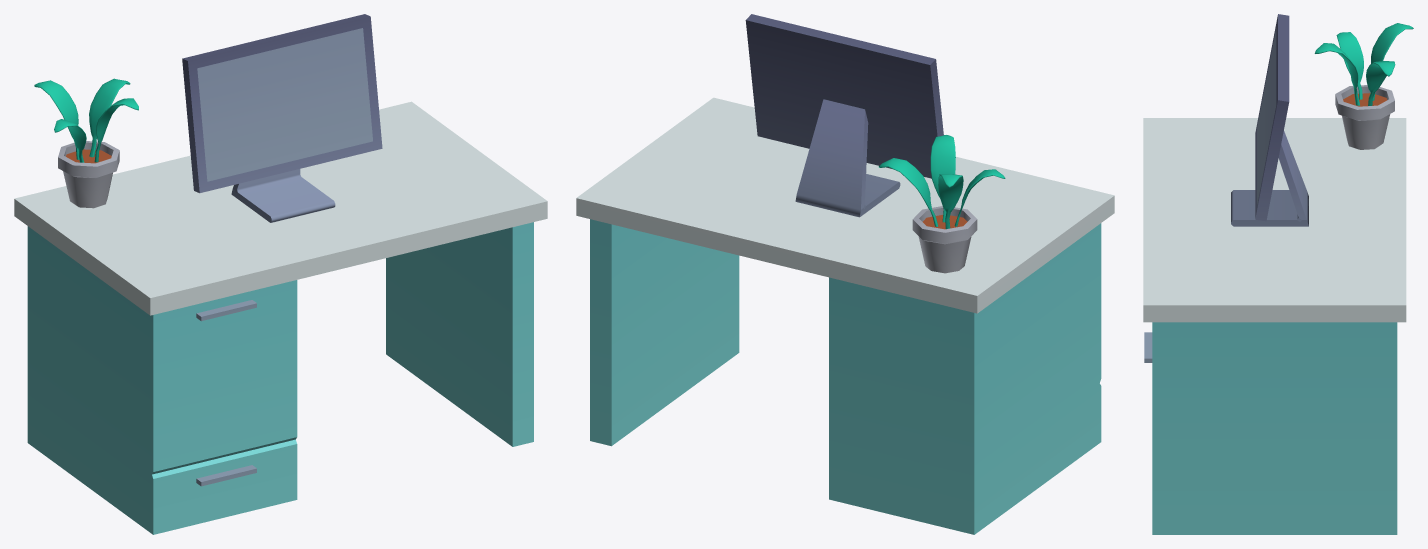
Rendered from work_desk.fbx.
The picture shows the model from 3 angles, left to right: view 1: azimuth 30°, elevation 25°; view 2: azimuth 150°, elevation 25°; view 3: azimuth 270°, elevation 25°; orthographic projection. The views are drawn at different scales.
Visible parts, largest first — view 1: work_desk, work_desk.001; view 2: work_desk, work_desk.001; view 3: work_desk, work_desk.001.
Boxes of the visible parts, bbox=[...] form: work_desk: bbox=[14, 78, 547, 534]; work_desk.001: bbox=[182, 14, 382, 222]; work_desk: bbox=[576, 97, 1114, 534]; work_desk.001: bbox=[745, 14, 943, 217]; work_desk: bbox=[1143, 23, 1413, 534]; work_desk.001: bbox=[1231, 14, 1308, 226].
Size of the model in its own units: 231 by 223 by 141.
